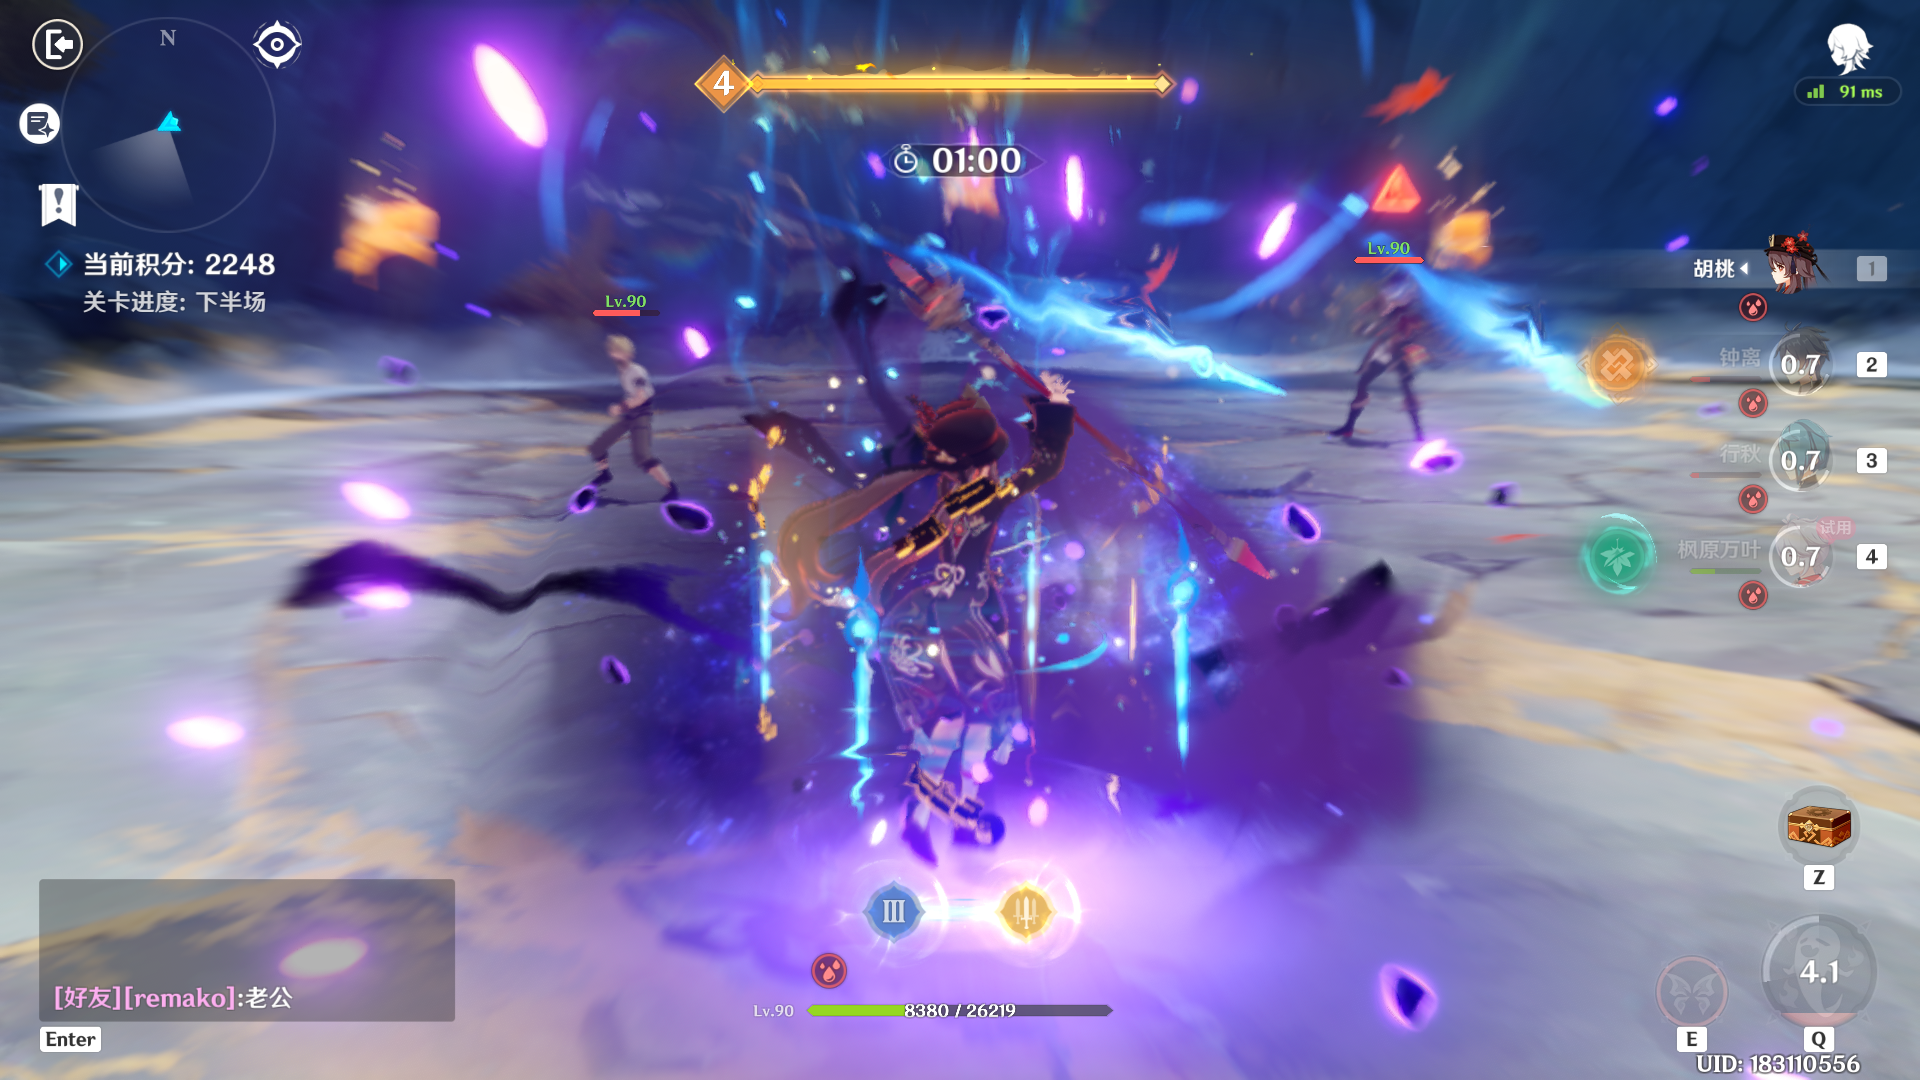character: (783, 348, 1091, 832)
robber: (555, 316, 698, 517), (1311, 276, 1451, 462)
